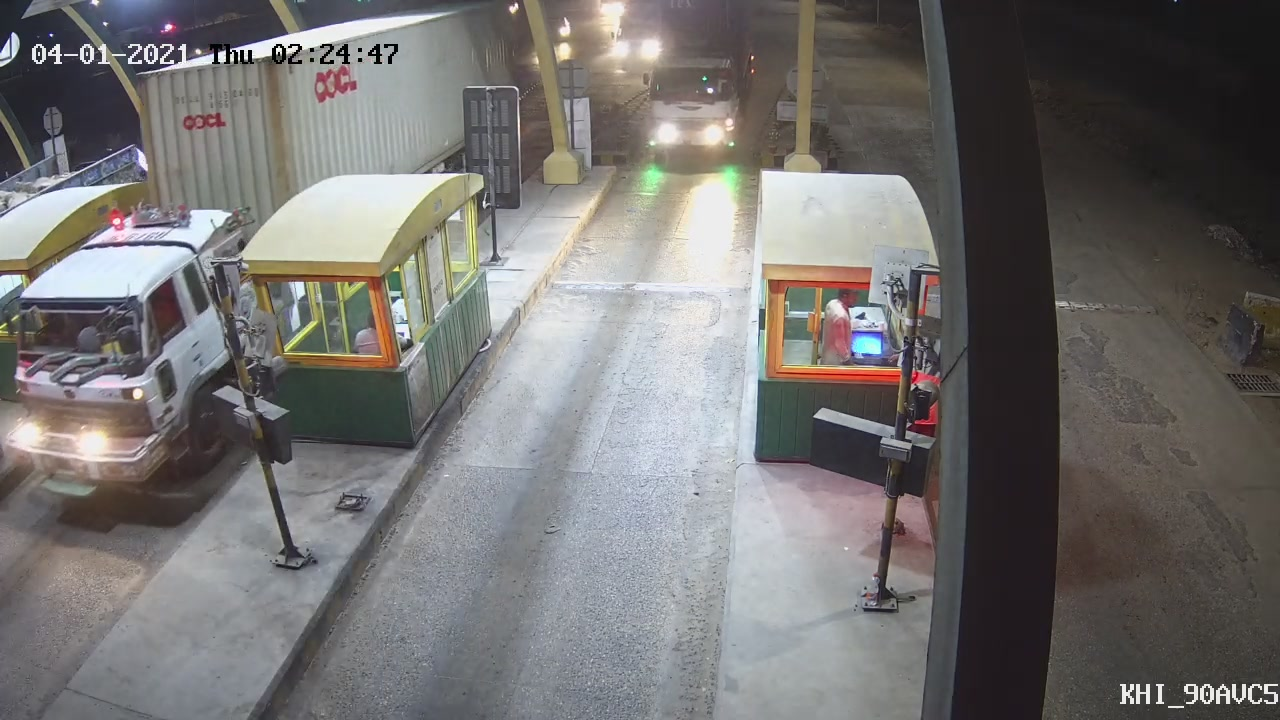F5: (636, 3, 759, 186)
